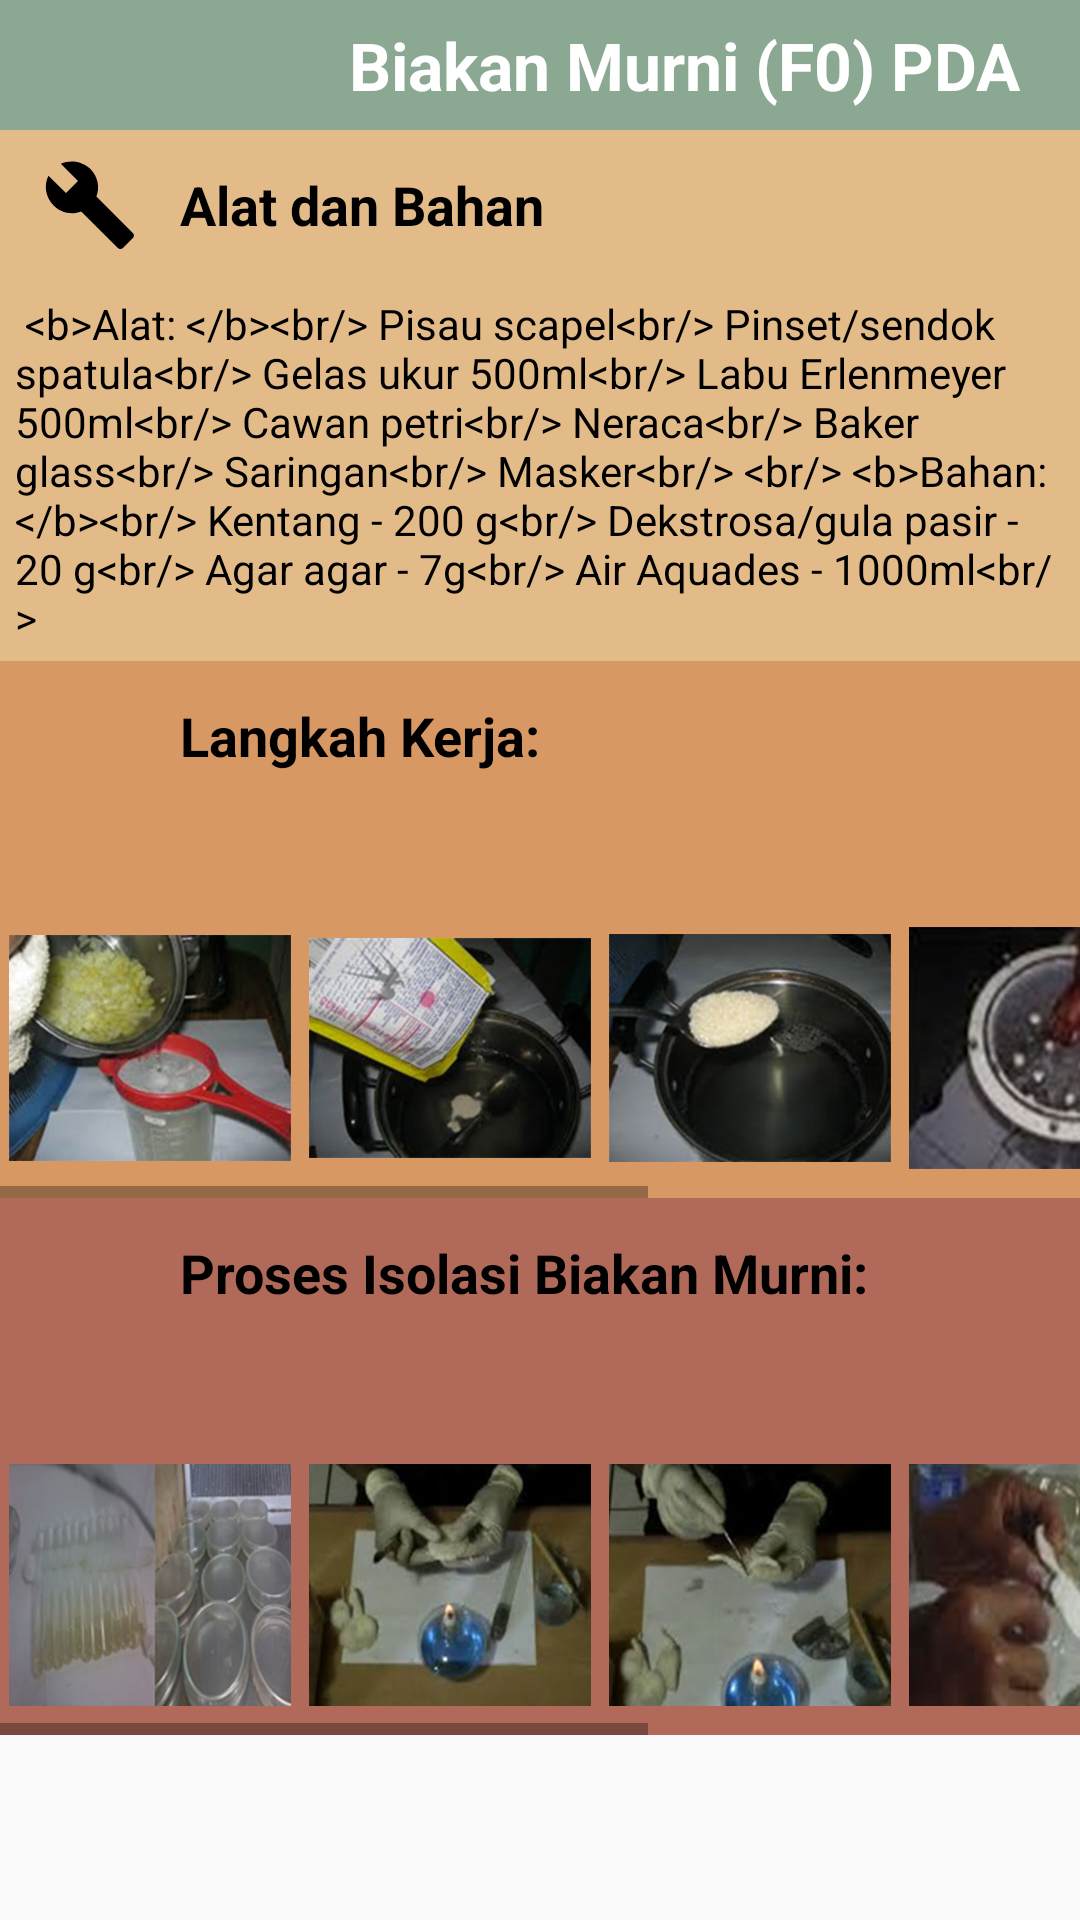

Icon bounding boxes for this 1080px×1920px phone screenshot, format rect(x1, y1, x2, y2):
build: rect(45, 161, 134, 249)
